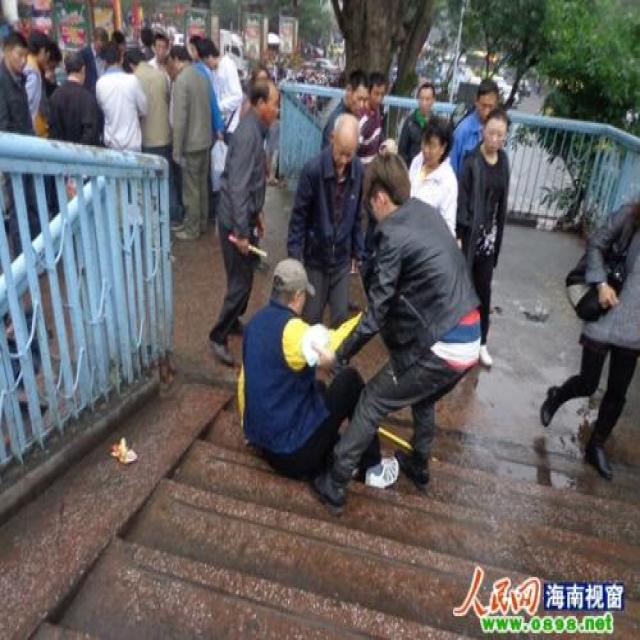10-: (5, 19, 639, 483)
down: (228, 250, 403, 498)
